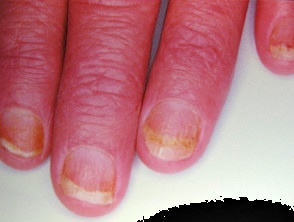Nail_psoriasis: (130, 82, 223, 177), (50, 131, 129, 215), (0, 97, 53, 166), (259, 4, 294, 71)
